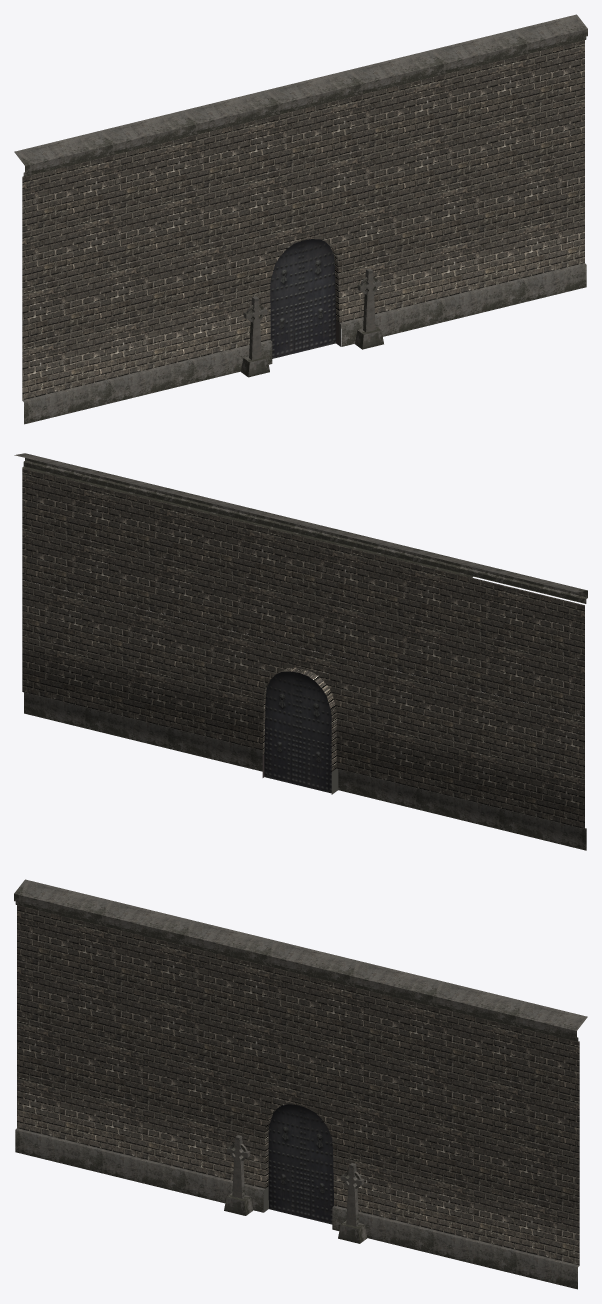
File: backWallHigh.FBX
3 renders of one model, top to bottom at view 1: azimuth 30°, elevation 25°; view 2: azimuth 150°, elevation 25°; view 3: azimuth 330°, elevation 25°, orthographic.
Visible parts, largest first — view 1: backWallHigh; view 2: backWallHigh; view 3: backWallHigh.
Part boxes in pixels (left/top/right/bottom): backWallHigh: left=14, top=14, right=587, bottom=424; backWallHigh: left=14, top=453, right=587, bottom=850; backWallHigh: left=14, top=879, right=587, bottom=1289.
Size of the model in its own units: 2457 by 1107 by 134.
Materials: 3 (3 with a texture image).
